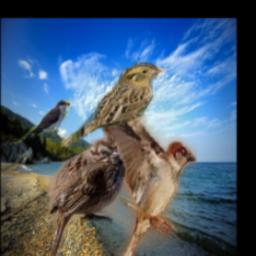Cuckoo: (17, 100, 71, 146)
Sparrow: (103, 95, 197, 256), (48, 139, 126, 256), (61, 62, 166, 147)
